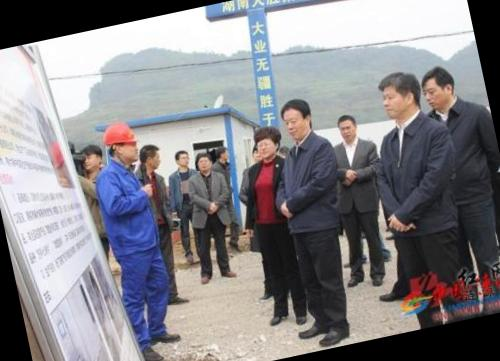no_helmet: (370, 64, 427, 127), (418, 61, 460, 115), (274, 93, 318, 144), (249, 122, 288, 166), (76, 142, 109, 181), (136, 141, 166, 178), (334, 110, 361, 144), (170, 146, 192, 172), (210, 141, 232, 165), (193, 149, 213, 175)
